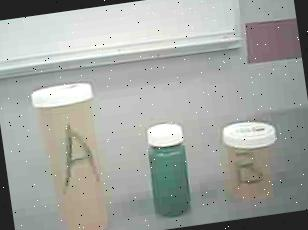Bottle A: (27, 72, 127, 230)
Bottle B: (211, 117, 292, 215)
Bottle C: (140, 118, 200, 226)
